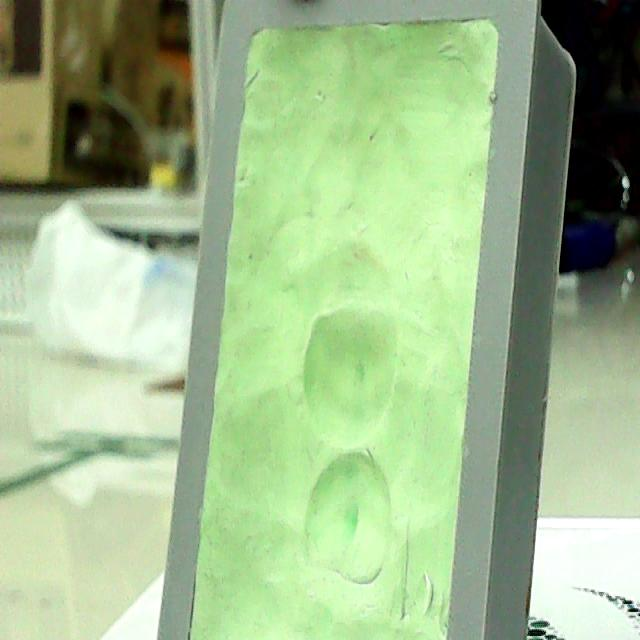block: (133, 0, 594, 640)
